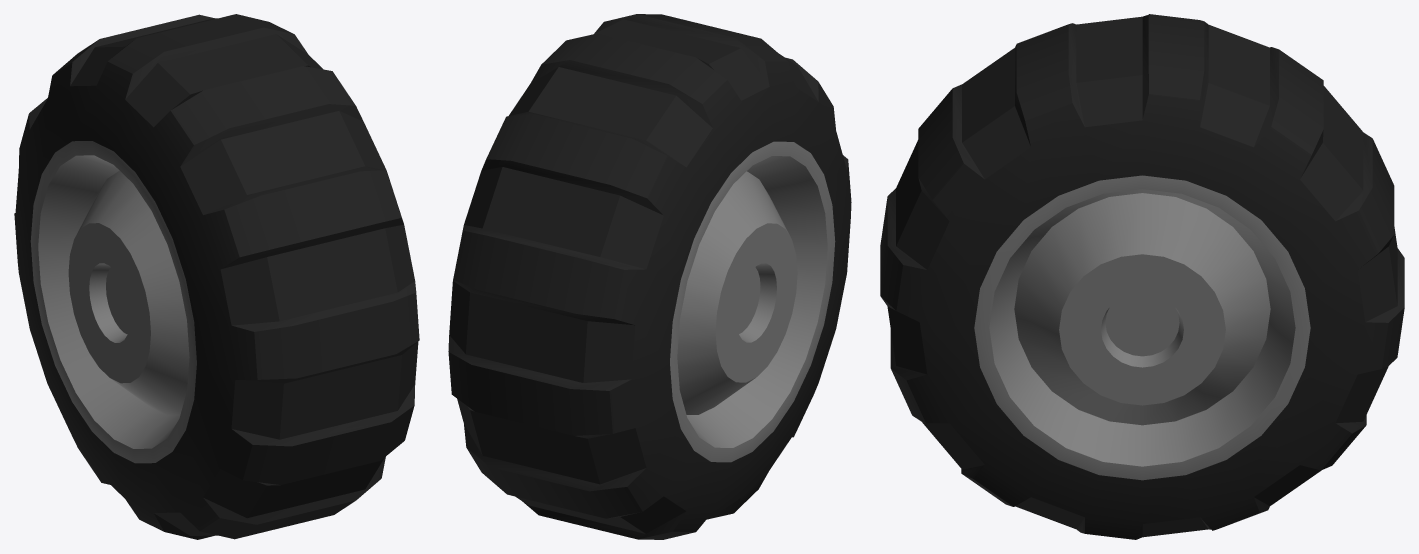
The model's file is frontwheel_l.002_lev1.glb.
3 views of the same model, side by side, from view 1: azimuth 30°, elevation 25°; view 2: azimuth 150°, elevation 25°; view 3: azimuth 270°, elevation 25° (orthographic).
Parts seen in each view (by area): view 1: frontwheel_l.002_lev1; view 2: frontwheel_l.002_lev1; view 3: frontwheel_l.002_lev1.
Part boxes in pixels (x1=…): frontwheel_l.002_lev1: x1=14, y1=14, x2=419, y2=539; frontwheel_l.002_lev1: x1=448, y1=14, x2=851, y2=539; frontwheel_l.002_lev1: x1=880, y1=14, x2=1404, y2=539.
Bounding box in the file's own units: 0.4281 × 0.8967 × 0.8967.
1 material, 1 textured.
